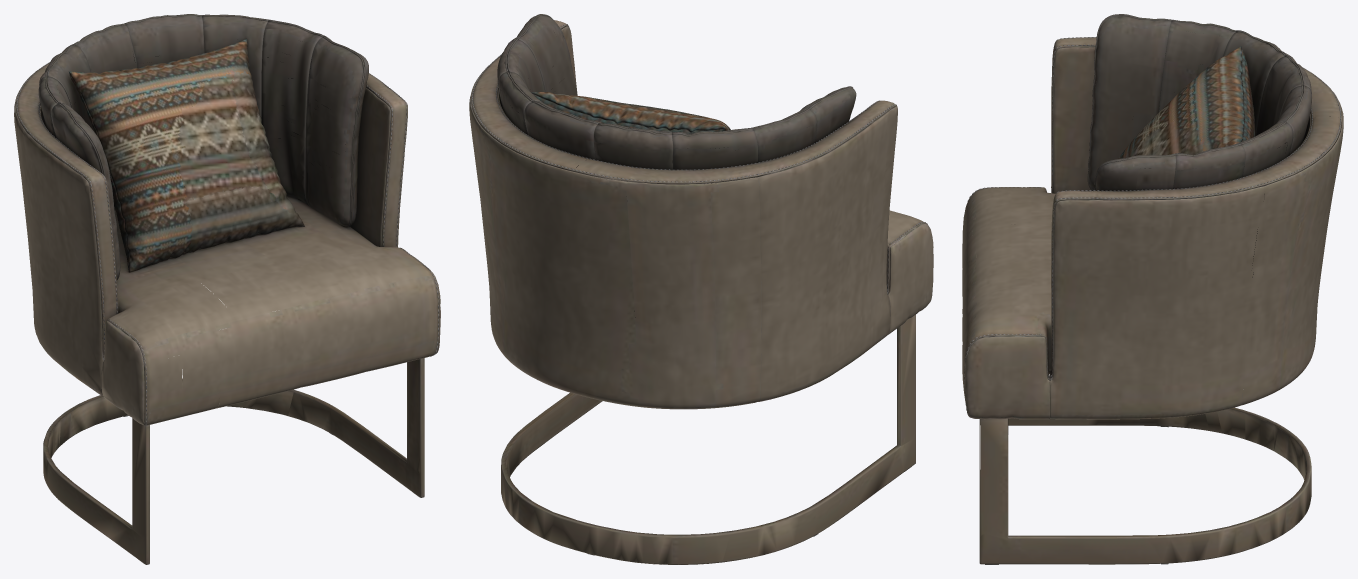
Rendered from skd6a12459.glb.
3 renders of one model, left to right at view 1: azimuth 30°, elevation 25°; view 2: azimuth 150°, elevation 25°; view 3: azimuth 270°, elevation 25°, orthographic. The views are drawn at different scales.
Visible parts, largest first — view 1: Object002_Object002_mtl_0 (×3), Object001_Object001_mtl_0; view 2: Object002_Object002_mtl_0 (×3), Object001_Object001_mtl_0; view 3: Object002_Object002_mtl_0 (×3), Object001_Object001_mtl_0.
Part boxes in pixels (x1,y1,x2,y2): Object002_Object002_mtl_0 (×3): (14, 14, 440, 564); Object001_Object001_mtl_0: (69, 39, 252, 272); Object002_Object002_mtl_0 (×3): (469, 14, 933, 564); Object001_Object001_mtl_0: (531, 92, 730, 133); Object002_Object002_mtl_0 (×3): (962, 14, 1343, 564); Object001_Object001_mtl_0: (1118, 46, 1255, 158).
Bounding box in the file's own units: 0.6832 × 0.7998 × 0.6741.
Materials: 2 (2 with a texture image).
